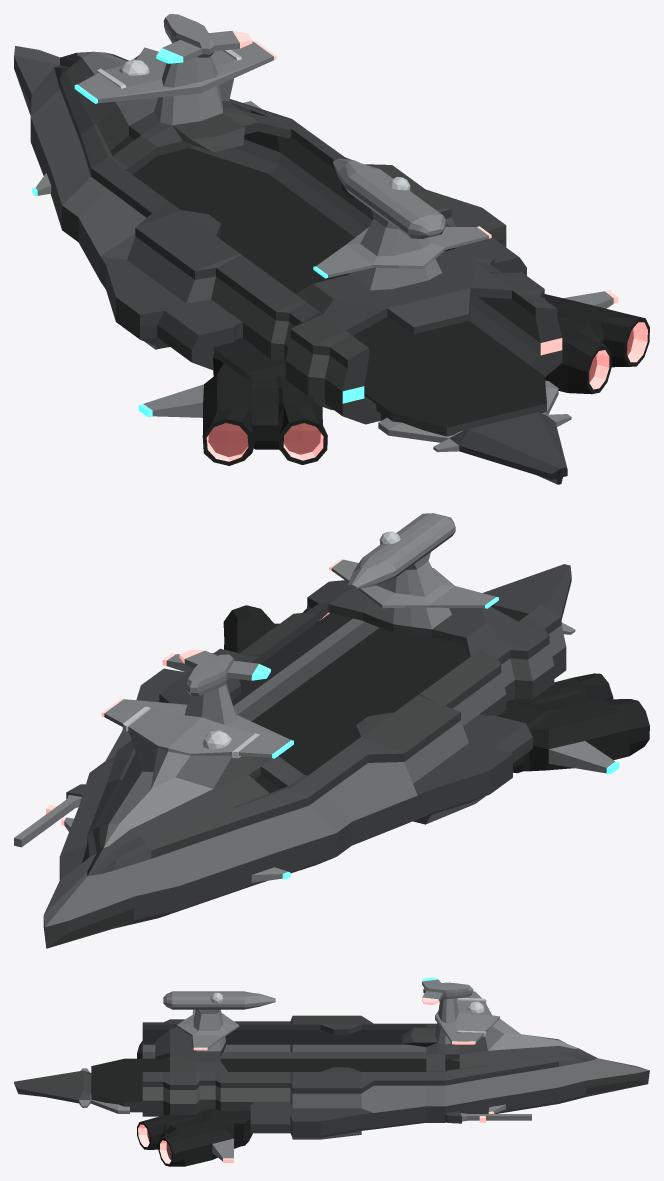
The model's file is Troop_M1_LODGroup.fbx.
3 views of the same model, one above another, from view 1: azimuth 30°, elevation 25°; view 2: azimuth 150°, elevation 25°; view 3: azimuth 270°, elevation 25° (orthographic). The views are drawn at different scales.
Visible parts, largest first — view 1: Troop M1_LOD0; view 2: Troop M1_LOD0; view 3: Troop M1_LOD0.
Boxes of the visible parts, x1,y1,x2,y2 form: Troop M1_LOD0: [14, 14, 649, 484]; Troop M1_LOD0: [14, 513, 649, 948]; Troop M1_LOD0: [14, 977, 649, 1166].
Size of what is drawn, in the model's own units: 154 by 65.66 by 310.
